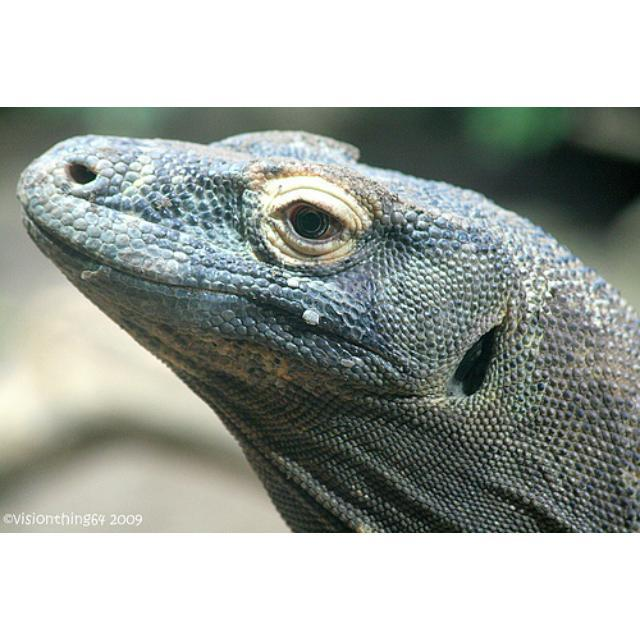KomodoDragon: (12, 126, 637, 531)
